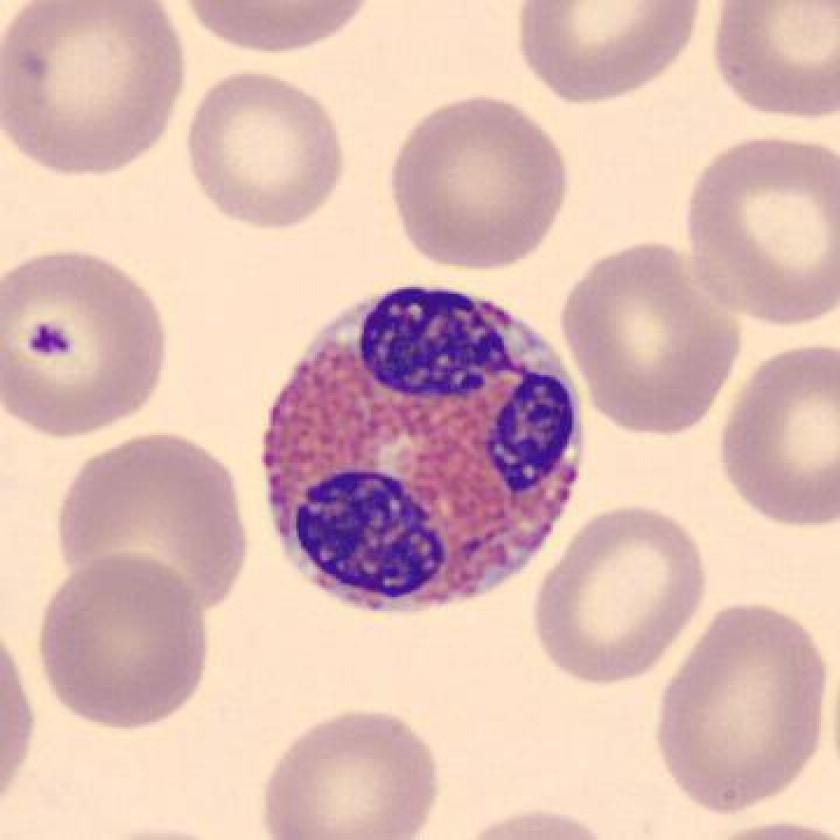eosinophil: (244, 270, 603, 624)
